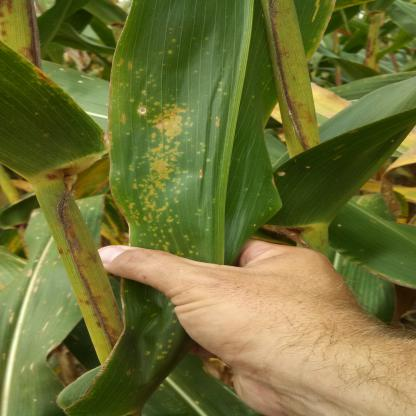corn rust leaf: (106, 1, 320, 245)
